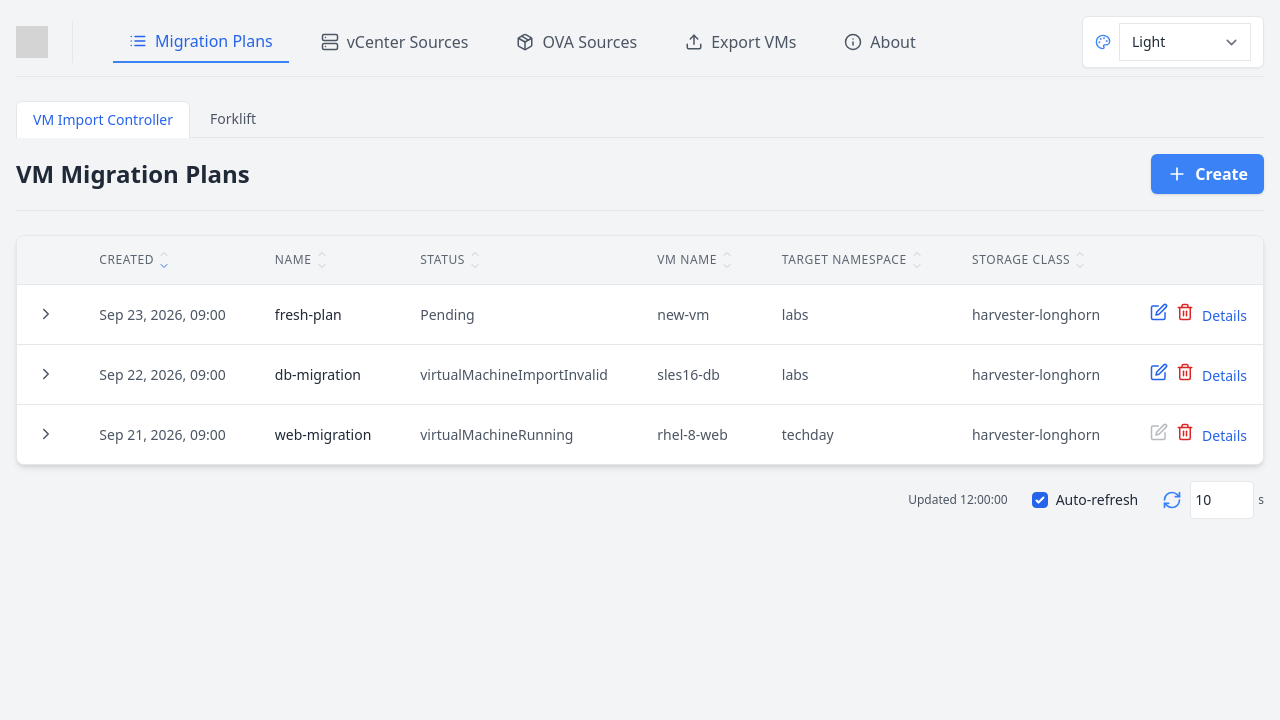
Test: vCenter sources: VM Import Controller
Click the button "vCenter Sources".
click(395, 42)  # box [305,21,484,63]
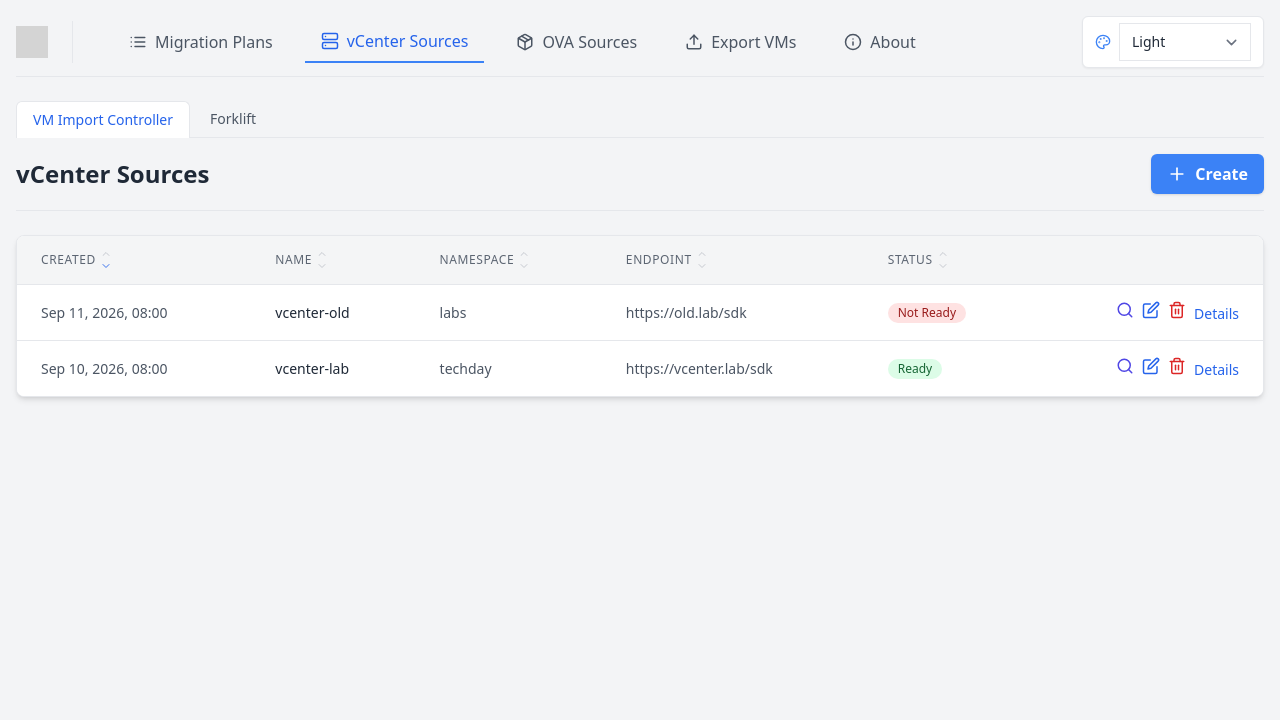
Now the text "vcenter-lab" is shown, box [251,340,416,396]
Now the text "vcenter-old" is shown, box [251,284,416,340]
Now the text "Not Ready" is shown, box [888,303,966,323]
